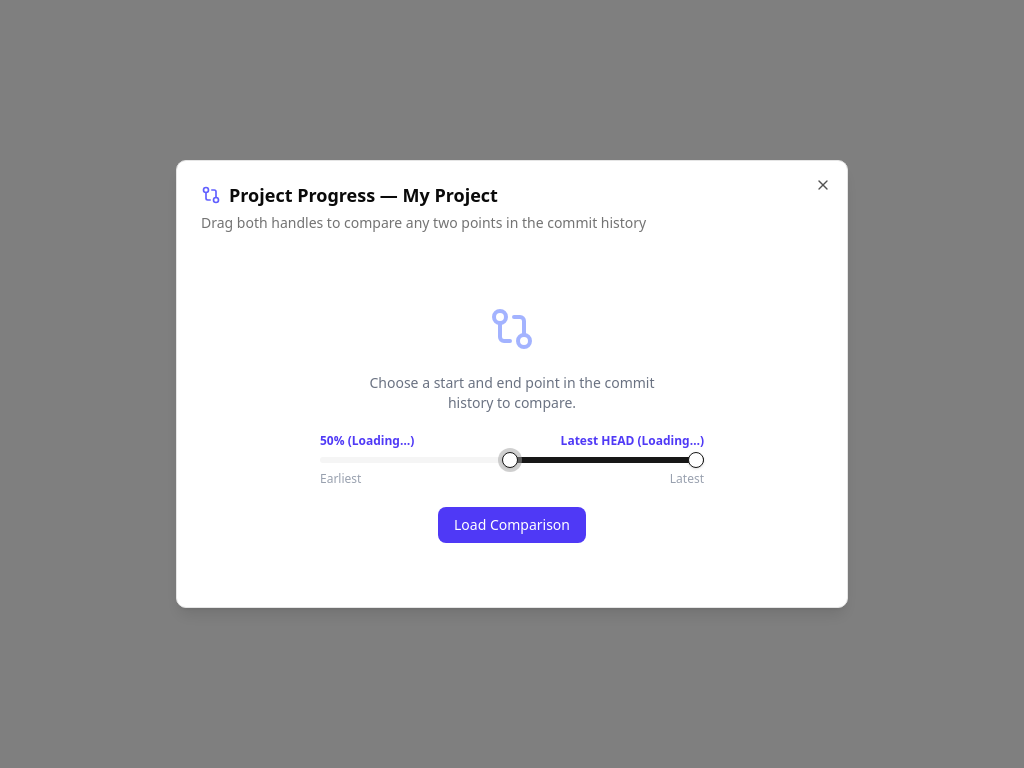
Scenario: SnapshotComparisonModal › reveals added language badge when Languages row is expanded
Click the button "Load Comparison" at (512, 525), box [438,507,586,543]
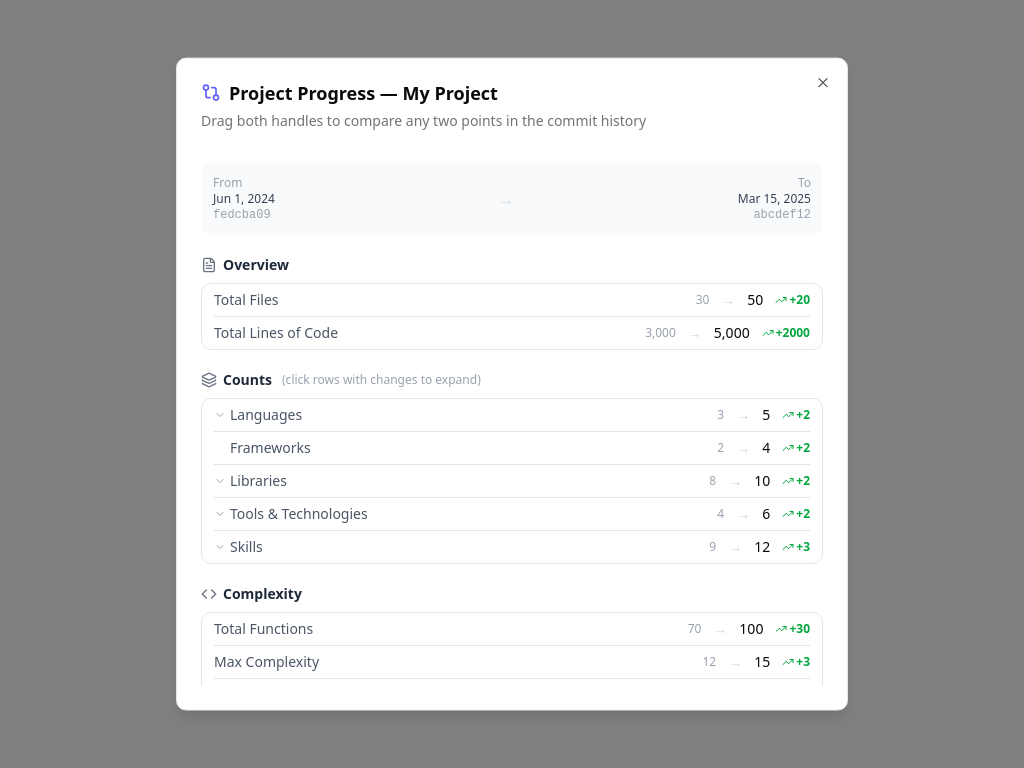
expect the text "50% (Loading…)" is gone: met
Click the text "Languages" at (258, 415), box [214,405,302,425]
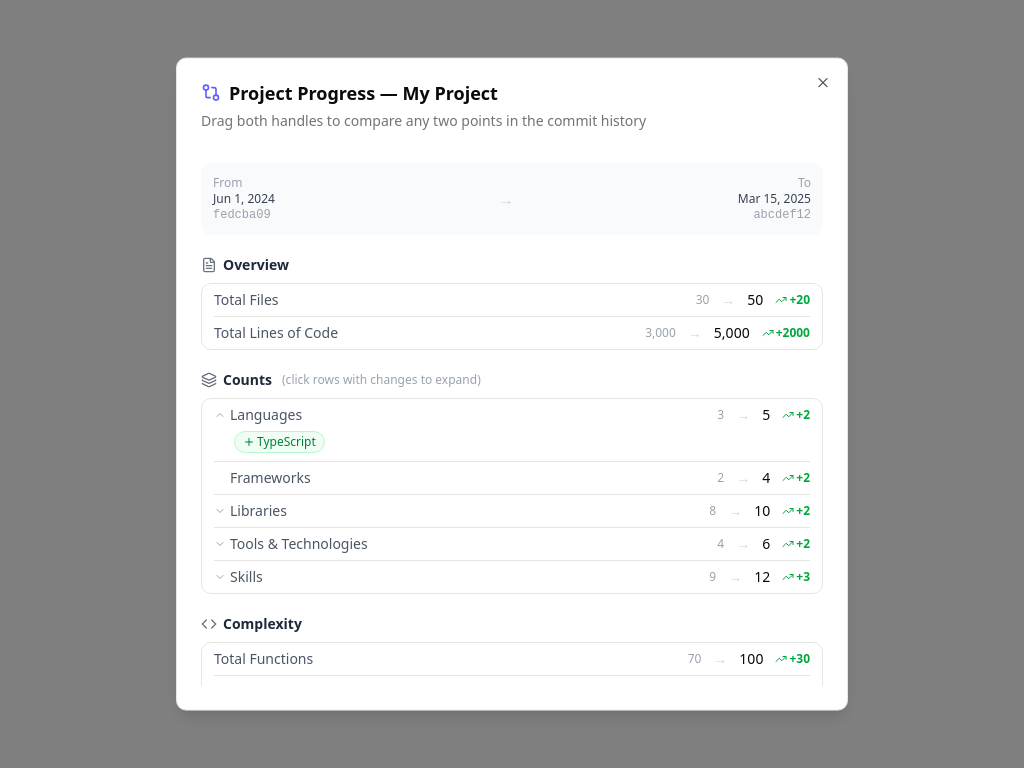
expect the text "TypeScript" is shown: met, box [234,431,325,453]
